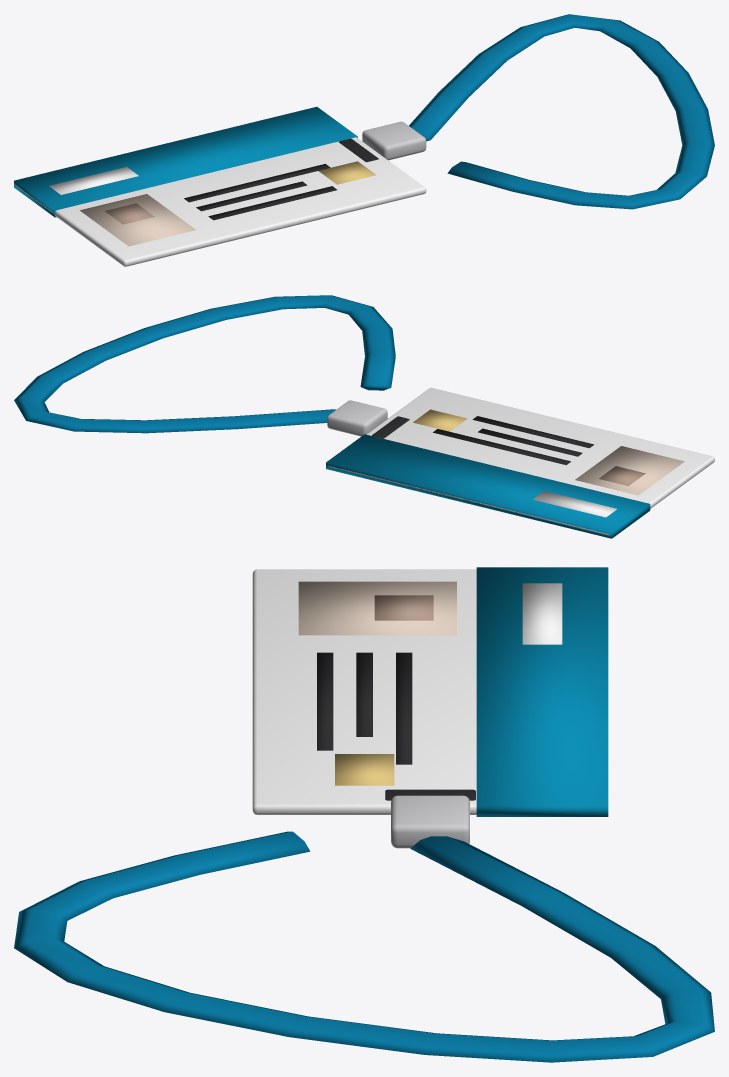
The model's file is SM_Keycard.glb.
3 renders of one model, top to bottom at view 1: azimuth 30°, elevation 25°; view 2: azimuth 150°, elevation 25°; view 3: azimuth 270°, elevation 25°, orthographic. The views are drawn at different scales.
Parts seen in each view (by area): view 1: SM_Keycard; view 2: SM_Keycard; view 3: SM_Keycard.
Boxes of the visible parts, x1=… form: SM_Keycard: x1=14, y1=14, x2=714, y2=266; SM_Keycard: x1=14, y1=295, x2=714, y2=538; SM_Keycard: x1=14, y1=567, x2=714, y2=1062.
Bounding box in the file's own units: 0.1772 × 0.0042 × 0.1064.
